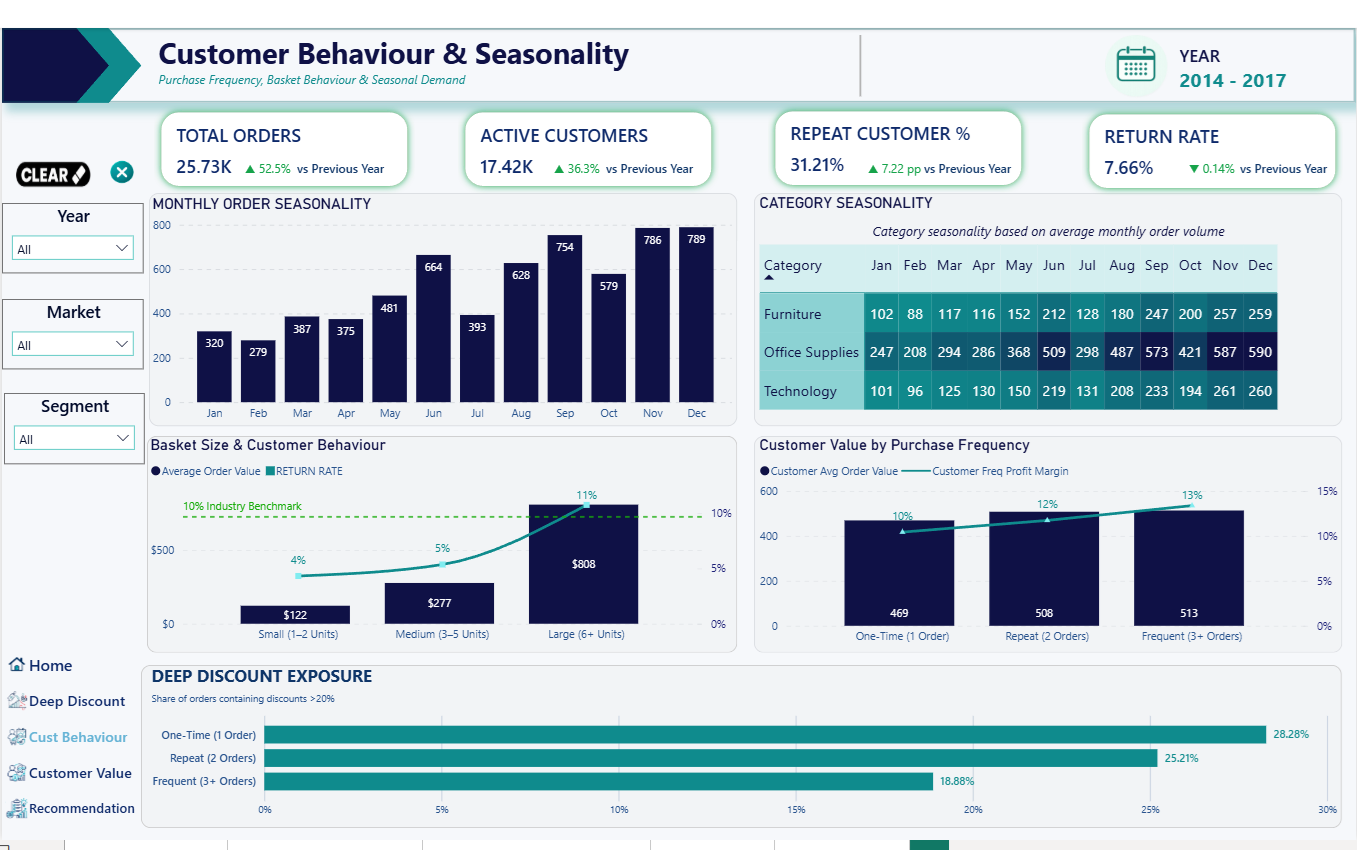

What the dashboard file says about the page in this screenshot:
{"tool":"powerbi","page":{"name":"Customer Behaviour & Seasonality","canvas":[1500,900],"ordinal":2},"visuals":[{"type":"shape","box":[833.3,182.5,651.9,258.5],"z":1000},{"type":"slicer","title":"Year","fields":{"Values":["DimDate.Year"]},"box":[0,194.1,156.6,78],"z":1000,"group":"g1"},{"type":"shape","box":[163.3,182.5,651.9,258.5],"z":2000},{"type":"slicer","title":"Market","fields":{"Values":["DimMarketRegion.Market"]},"box":[0,300.4,156.6,78],"z":3000,"group":"g1"},{"type":"shape","box":[154.3,705.7,1330.8,180.7],"z":3000},{"type":"slicer","title":"Segment","fields":{"Values":["FactSales.Segment"]},"box":[2.3,404,155.7,79.1],"z":4000,"group":"g1"},{"type":"shape","box":[833.3,452.4,651.9,240.4],"z":4000},{"type":"image","title":"Clear button","box":[107,138.1,50.9,42.3],"z":5000,"group":"g1"},{"type":"shape","box":[161,452.4,654.2,240.4],"z":5000},{"type":"image","box":[14.5,142.7,85.1,41.4],"z":6000,"group":"g1"},{"type":"clusteredColumnChart","title":"MONTHLY ORDER SEASONALITY","fields":{"Category":["DimDate.Month"],"Y":["_Measures.Average Monthly Orders"]},"box":[162.3,185.3,651.9,259.6],"z":6000},{"type":"clusteredBarChart","title":"DEEP DISCOUNT EXPOSURE","fields":{"Category":["Customer Frequency Band.Frequency Group"],"Y":["Customer Frequency Band.Customer Frequency High Discount %"]},"box":[161.2,704.5,1323.9,179.6],"z":7000},{"type":"textbox","box":[168.5,0,772.5,76.5],"z":8000},{"type":"shape","box":[0,0.4,127.4,83.2],"z":9000},{"type":"shape","box":[0,0,1500,82.8],"z":10000},{"type":"shape","box":[82.1,0.4,72.6,83.2],"z":11000},{"type":"shape","box":[906.3,7.8,89.5,68.4],"z":12000},{"type":"image","box":[1212.9,-0.5,91.6,90.5],"z":13000},{"type":"textbox","box":[1300.2,12.1,138.9,64.2],"z":14000},{"type":"shape","box":[168.9,85.6,288.9,97.8],"z":15000},{"type":"cardVisual","fields":{"Data":["_Measures.Order Count"]},"box":[176.7,94.4,275.6,81.1],"z":16000},{"type":"shape","box":[269.8,130.9,56.6,48.1],"z":17000},{"type":"shape","box":[326.8,137.9,113.3,34.2],"z":18000},{"type":"shape","box":[505.6,85.6,288.9,97.8],"z":19000},{"type":"cardVisual","fields":{"Data":["_Measures.ACTIVE CUSTOMERS"]},"box":[513.3,94.4,281.1,81.1],"z":20000},{"type":"shape","box":[612.1,130.9,56.6,48.1],"z":21000},{"type":"shape","box":[669,137.9,113.3,34.2],"z":22000},{"type":"shape","box":[848.9,84.4,288.9,97.8],"z":23000},{"type":"cardVisual","fields":{"Data":["_Measures.REPEAT CUSTOMER %"]},"box":[856.7,91.1,273.3,84.4],"z":24000},{"type":"shape","box":[959.8,130.8,75.2,48.3],"z":25000},{"type":"shape","box":[1022.4,137.9,113.3,34.2],"z":26000},{"type":"shape","box":[1196.7,87.8,288.9,97.8],"z":27000},{"type":"cardVisual","fields":{"Data":["_Measures.RETURN RATE"]},"box":[1204.4,95.6,266.7,82.2],"z":28000},{"type":"shape","box":[1315.8,130.9,56.6,48.1],"z":29000},{"type":"shape","box":[1372.7,137.9,113.3,34.2],"z":30000},{"type":"lineClusteredColumnComboChart","title":"Customer Value by Purchase Frequency","fields":{"Category":["Customer Frequency Band.Frequency Group"],"Y":["Customer Frequency Band.Customer Frequency AOV"],"Y2":["Customer Frequency Band.Customer Frequency Profit Margin"]},"box":[834.5,452.4,650.8,240.4],"z":31000},{"type":"lineClusteredColumnComboChart","title":"Basket Size & Customer Behaviour","fields":{"Category":["FactSales.Basket Size Band"],"Y":["_Measures.Average Order Value"],"Y2":["_Measures.RETURN RATE"]},"box":[160,452.4,654.2,238.1],"z":32000},{"type":"pivotTable","title":"CATEGORY SEASONALITY","fields":{"Columns":["DimDate.Month"],"Rows":["DimProduct.Category"],"Values":["_Measures.Average Monthly Orders"]},"box":[834.5,183.7,650.8,257.4],"z":33000},{"type":"actionButton","box":[0,685,161.1,40],"z":35000},{"type":"actionButton","box":[0,724.4,161.1,40],"z":36000},{"type":"actionButton","box":[0,764.4,161.1,40],"z":37000},{"type":"actionButton","box":[0,804.4,161.1,40],"z":38000},{"type":"actionButton","box":[0,844.4,161.1,40],"z":39000},{"type":"group","id":"g1","title":"Group 1","box":[0,138.1,157.7,422.5],"z":44000}]}

Visuals, with their boxes on the page's 1500x900 design canvas (x1, y1, x2, y2). These are canvas units, not pixel positions in the 1357x850 screenshot, which may show the page scaled, cropped or inside an application window:
shape: (x1=833, y1=182, x2=1485, y2=441)
"Year" slicer: (x1=0, y1=194, x2=157, y2=272)
shape: (x1=163, y1=182, x2=815, y2=441)
"Market" slicer: (x1=0, y1=300, x2=157, y2=378)
shape: (x1=154, y1=706, x2=1485, y2=886)
"Segment" slicer: (x1=2, y1=404, x2=158, y2=483)
shape: (x1=833, y1=452, x2=1485, y2=693)
"Clear button" image: (x1=107, y1=138, x2=158, y2=180)
shape: (x1=161, y1=452, x2=815, y2=693)
image: (x1=14, y1=143, x2=100, y2=184)
"MONTHLY ORDER SEASONALITY" clusteredColumnChart: (x1=162, y1=185, x2=814, y2=445)
"DEEP DISCOUNT EXPOSURE" clusteredBarChart: (x1=161, y1=704, x2=1485, y2=884)
textbox: (x1=168, y1=0, x2=941, y2=76)
shape: (x1=0, y1=0, x2=127, y2=84)
shape: (x1=0, y1=0, x2=1500, y2=83)
shape: (x1=82, y1=0, x2=155, y2=84)
shape: (x1=906, y1=8, x2=996, y2=76)
image: (x1=1213, y1=0, x2=1304, y2=90)
textbox: (x1=1300, y1=12, x2=1439, y2=76)
shape: (x1=169, y1=86, x2=458, y2=183)
cardVisual - _Measures.Order Count: (x1=177, y1=94, x2=452, y2=176)
shape: (x1=270, y1=131, x2=326, y2=179)
shape: (x1=327, y1=138, x2=440, y2=172)
shape: (x1=506, y1=86, x2=794, y2=183)
cardVisual - _Measures.ACTIVE CUSTOMERS: (x1=513, y1=94, x2=794, y2=176)
shape: (x1=612, y1=131, x2=669, y2=179)
shape: (x1=669, y1=138, x2=782, y2=172)
shape: (x1=849, y1=84, x2=1138, y2=182)
cardVisual - _Measures.REPEAT CUSTOMER %: (x1=857, y1=91, x2=1130, y2=176)
shape: (x1=960, y1=131, x2=1035, y2=179)
shape: (x1=1022, y1=138, x2=1136, y2=172)
shape: (x1=1197, y1=88, x2=1486, y2=186)
cardVisual - _Measures.RETURN RATE: (x1=1204, y1=96, x2=1471, y2=178)
shape: (x1=1316, y1=131, x2=1372, y2=179)
shape: (x1=1373, y1=138, x2=1486, y2=172)
"Customer Value by Purchase Frequency" lineClusteredColumnComboChart: (x1=834, y1=452, x2=1485, y2=693)
"Basket Size & Customer Behaviour" lineClusteredColumnComboChart: (x1=160, y1=452, x2=814, y2=690)
"CATEGORY SEASONALITY" pivotTable: (x1=834, y1=184, x2=1485, y2=441)
actionButton: (x1=0, y1=685, x2=161, y2=725)
actionButton: (x1=0, y1=724, x2=161, y2=764)
actionButton: (x1=0, y1=764, x2=161, y2=804)
actionButton: (x1=0, y1=804, x2=161, y2=844)
actionButton: (x1=0, y1=844, x2=161, y2=884)
"Group 1" group: (x1=0, y1=138, x2=158, y2=561)
